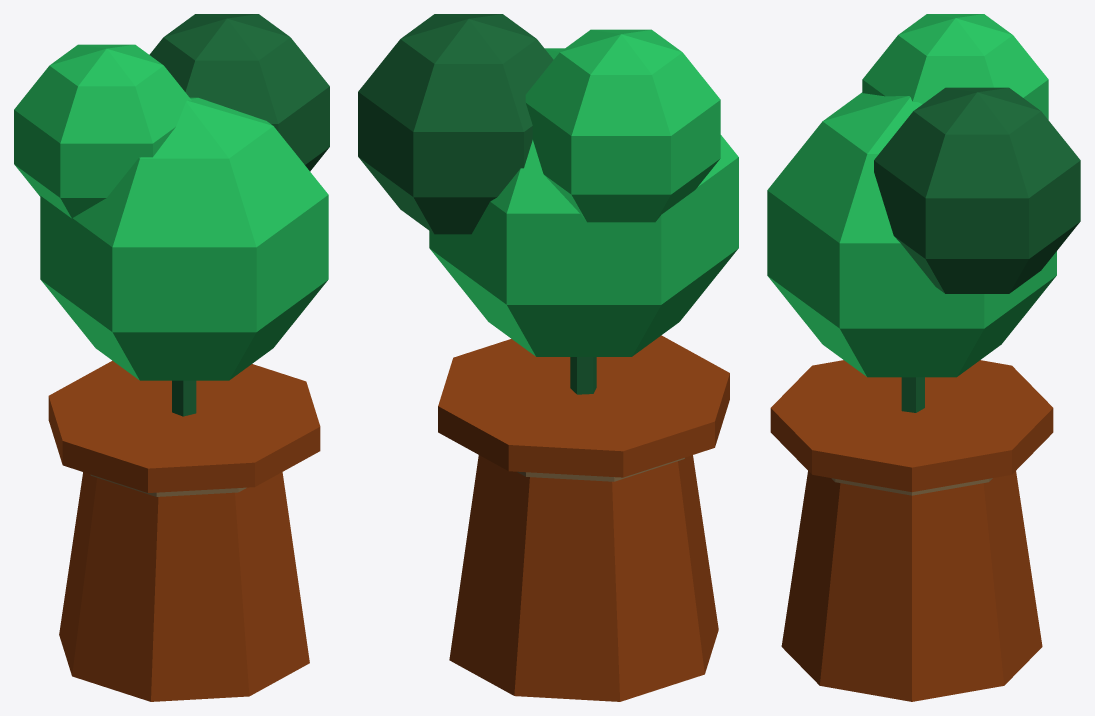
File: plant.glb
3 views of the same model, side by side, from view 1: azimuth 30°, elevation 25°; view 2: azimuth 150°, elevation 25°; view 3: azimuth 270°, elevation 25° (orthographic). The views are drawn at different scales.
Parts seen in each view (by area): view 1: Plant; view 2: Plant; view 3: Plant.
Boxes of the visible parts, x1,y1,x2,y2 form: Plant: (14, 14, 329, 701); Plant: (358, 14, 738, 701); Plant: (767, 14, 1080, 701).
Size of the model in its own units: 0.2965 by 0.61 by 0.2883.
